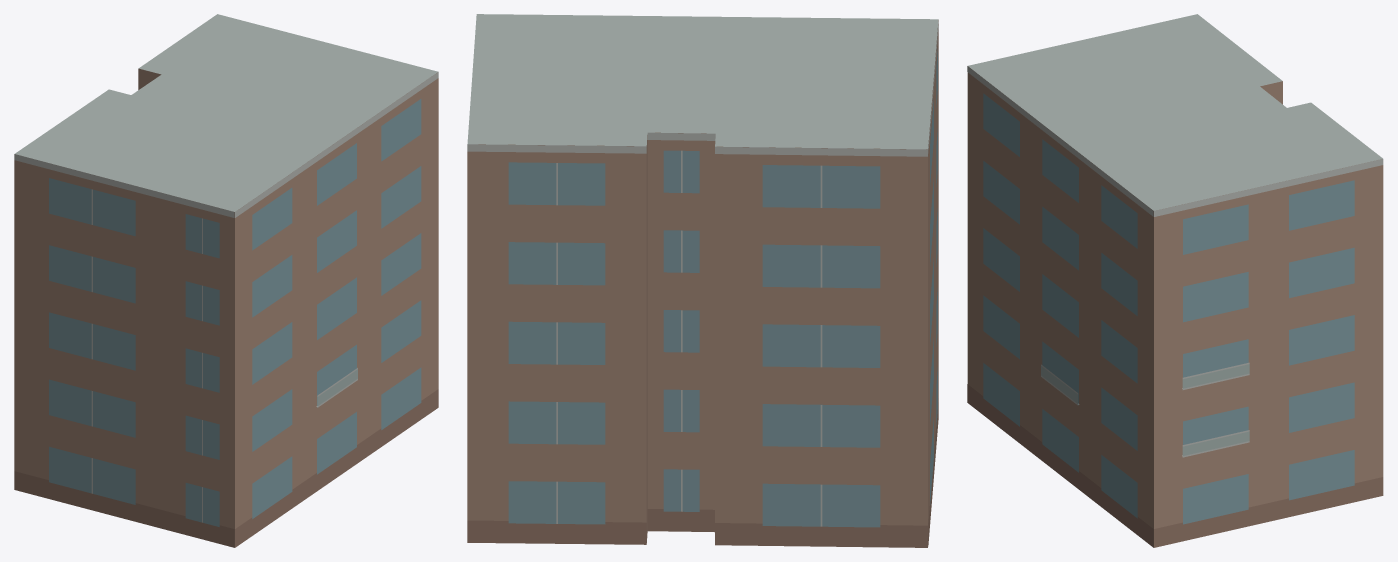
The model's file is survey-upis-32671906.glb.
3 renders of one model, left to right at view 1: azimuth 30°, elevation 25°; view 2: azimuth 150°, elevation 25°; view 3: azimuth 270°, elevation 25°, orthographic. The views are drawn at different scales.
Parts seen in each view (by area): view 1: survey-upis-32671906.tmp; view 2: survey-upis-32671906.tmp; view 3: survey-upis-32671906.tmp.
Boxes of the visible parts, x1,y1,x2,y2 form: survey-upis-32671906.tmp: [14, 14, 438, 547]; survey-upis-32671906.tmp: [467, 14, 938, 547]; survey-upis-32671906.tmp: [967, 14, 1383, 547].
Size of the model in its own units: 16.56 by 13.2 by 14.77.
